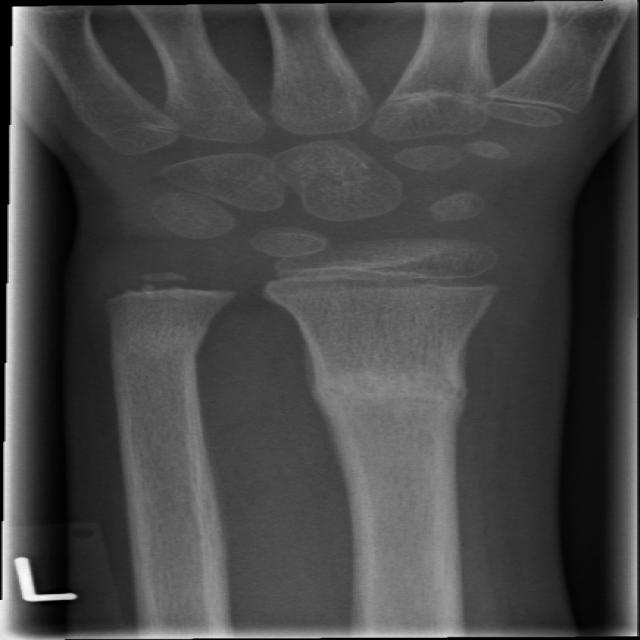radius fracture: (280, 332, 508, 466)
